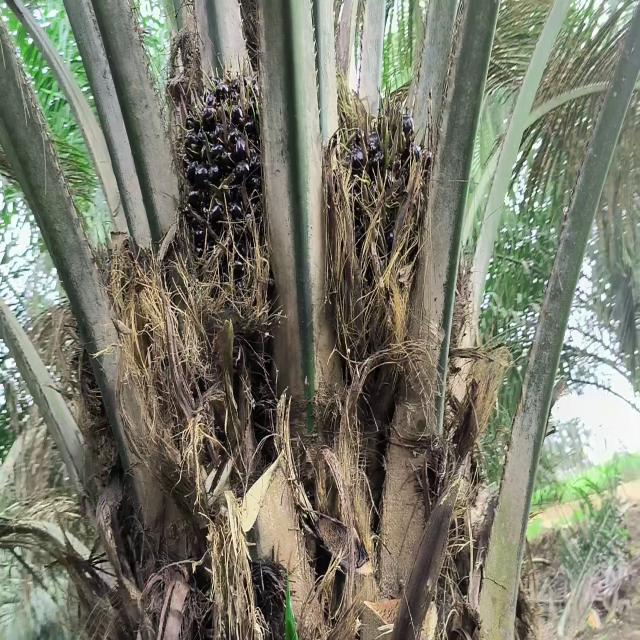palm-oil: (163, 74, 294, 317), (336, 112, 424, 346)
